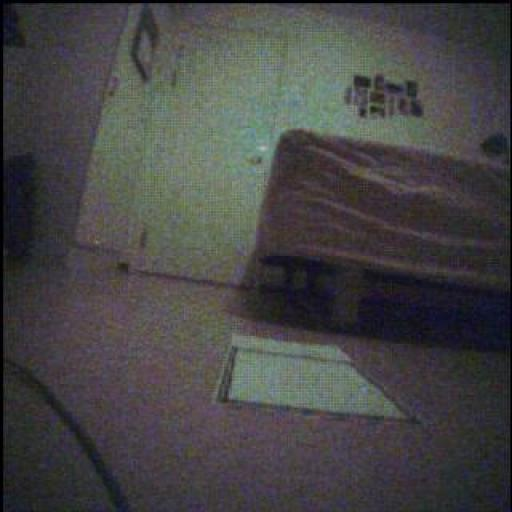pad: (217, 335, 412, 422)
